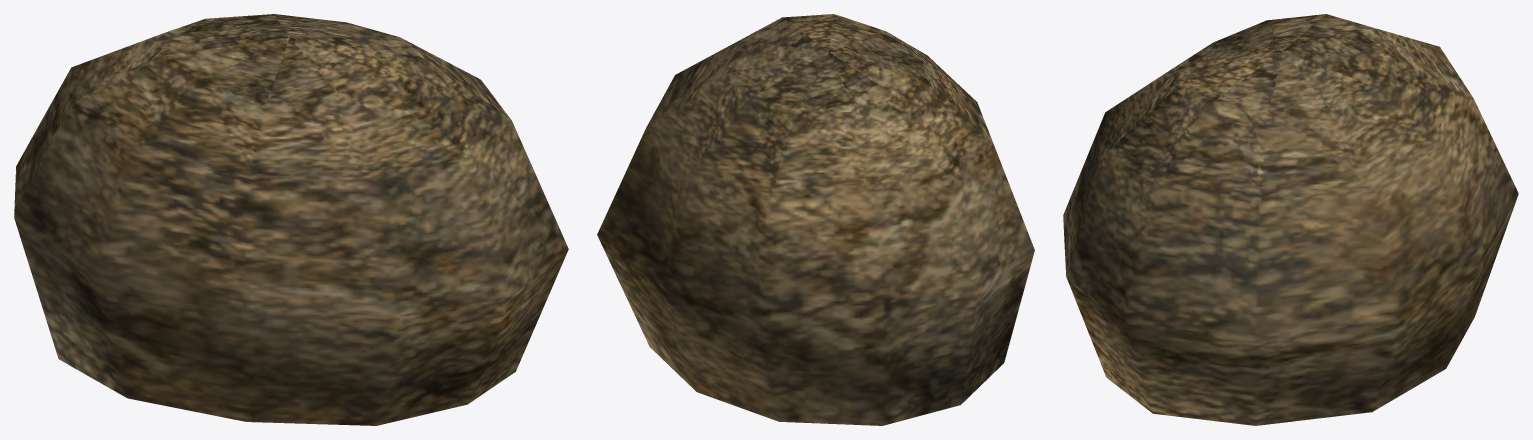
File: CH09_SMAUG_PLAYSURFACE_LONELYMOUNTAIN_LM_PLAYSURFACE26.fbx
3 renders of one model, left to right at view 1: azimuth 30°, elevation 25°; view 2: azimuth 150°, elevation 25°; view 3: azimuth 270°, elevation 25°, orthographic. The views are drawn at different scales.
Parts seen in each view (by area): view 1: CH09_SMAUG_PLAYSURFACE_LONELYMOUNTAIN_LM_PLAYSURFACE26; view 2: CH09_SMAUG_PLAYSURFACE_LONELYMOUNTAIN_LM_PLAYSURFACE26; view 3: CH09_SMAUG_PLAYSURFACE_LONELYMOUNTAIN_LM_PLAYSURFACE26.
Boxes of the visible parts, x1,y1,x2,y2 form: CH09_SMAUG_PLAYSURFACE_LONELYMOUNTAIN_LM_PLAYSURFACE26: (14,14,568,425); CH09_SMAUG_PLAYSURFACE_LONELYMOUNTAIN_LM_PLAYSURFACE26: (597,14,1034,425); CH09_SMAUG_PLAYSURFACE_LONELYMOUNTAIN_LM_PLAYSURFACE26: (1063,14,1518,425).
Size of the model in its own units: 14285 by 9879 by 13803.
Materials: 1 (1 with a texture image).
